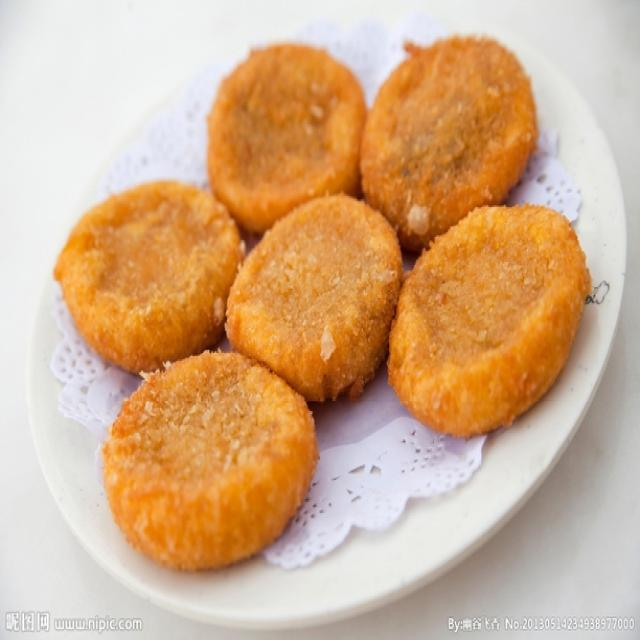炸货点心: (42, 39, 597, 584)
蛋糕甜品: (42, 39, 597, 584)
